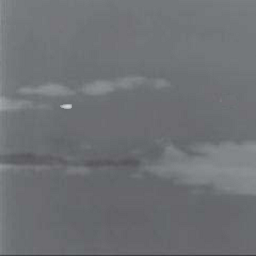Target: (58, 103, 73, 110)
